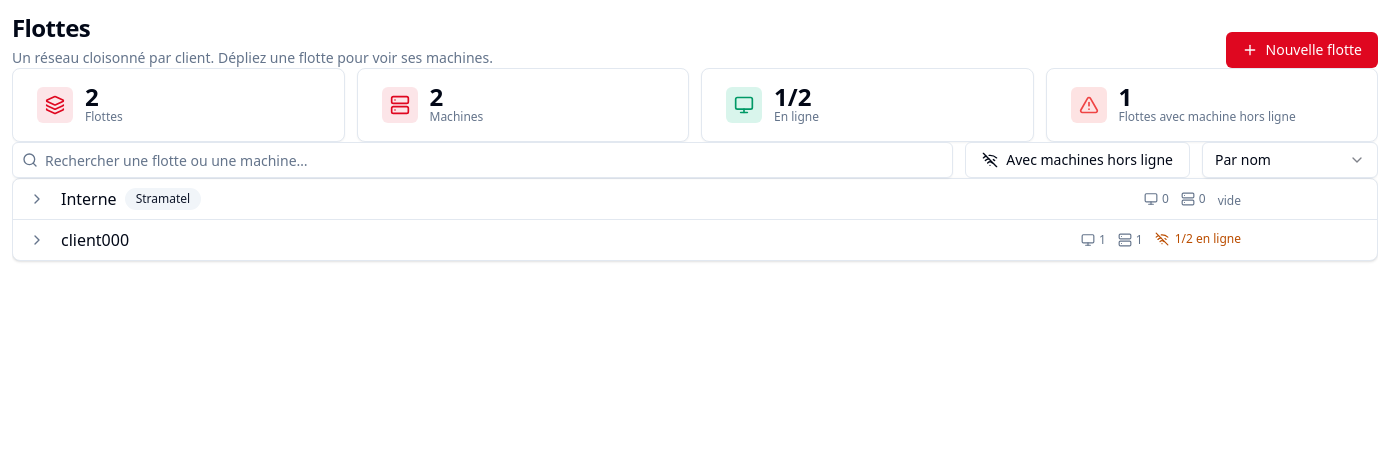
it: FleetsHome › déplie une flotte pour montrer ses machines
Expected: the text "1/2 en ligne" is shown, 1155,231 -> 1241,247
Expected: the text "machine-1" is not shown
Click the button named "Déplier client000" at (37, 240), box 25,228 -> 49,252
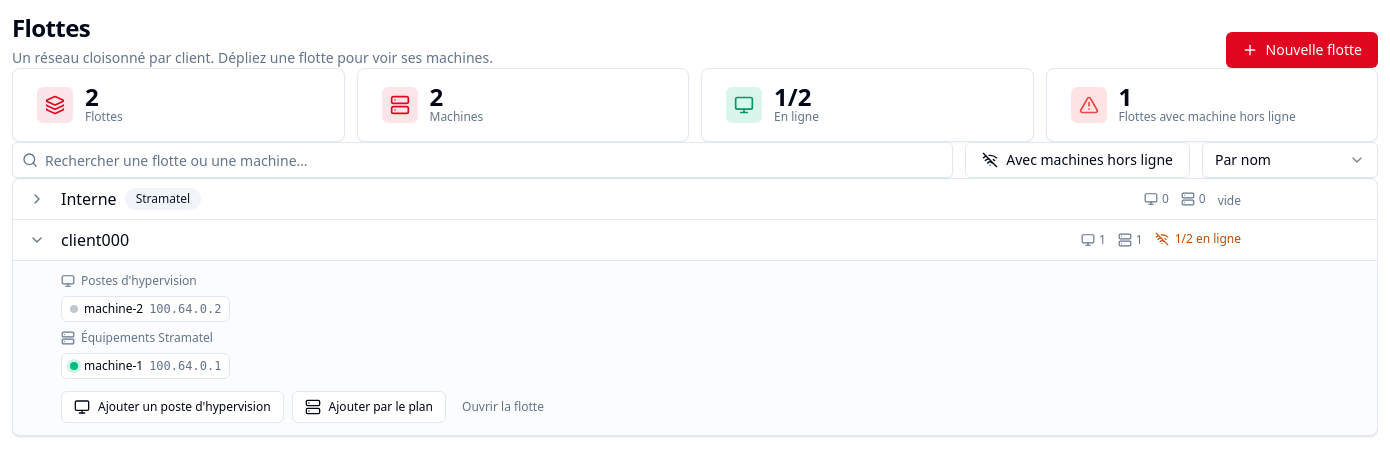
Now the text "machine-1" is shown, box 84,358 -> 143,374
Now the text "machine-2" is shown, box 84,301 -> 143,317
